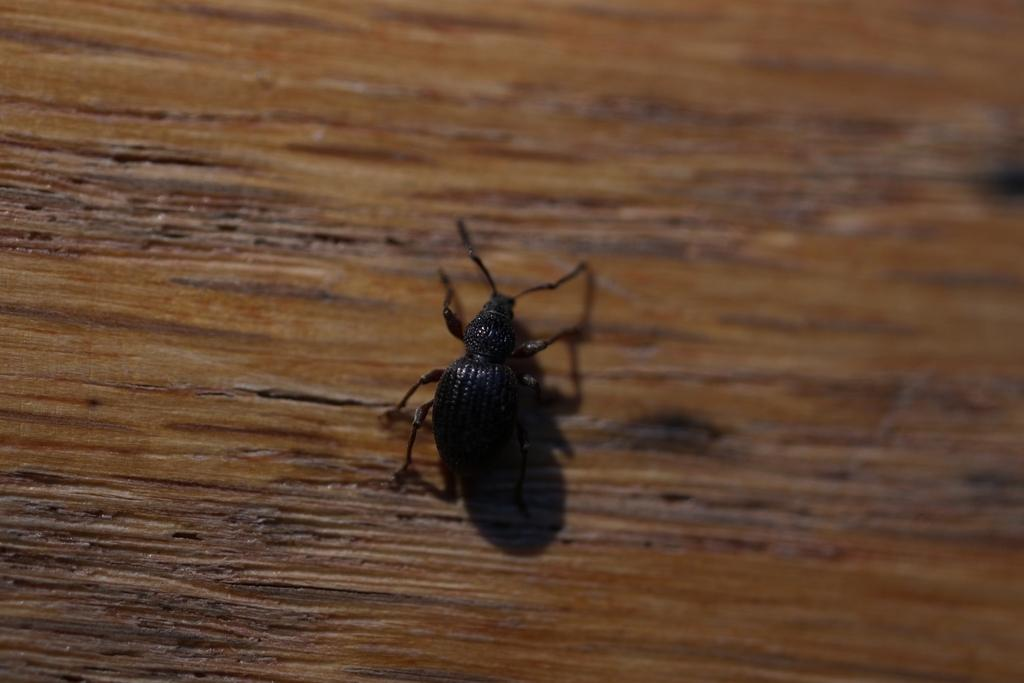weevils: (355, 164, 631, 555)
